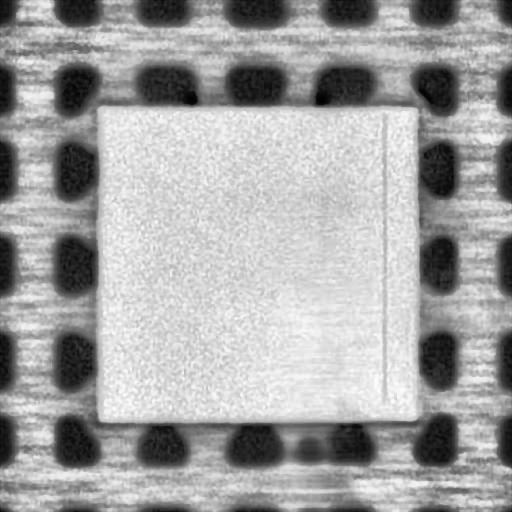DIE_CRACK: (376, 111, 392, 404)
